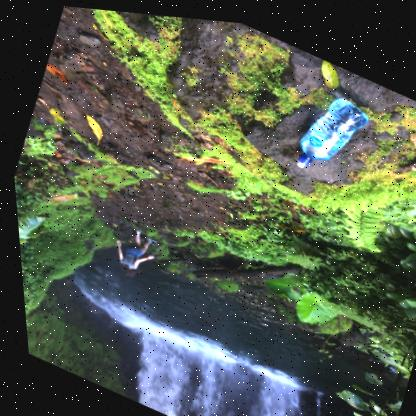Plastic: (293, 90, 366, 160)
Waste: (293, 148, 308, 160)
